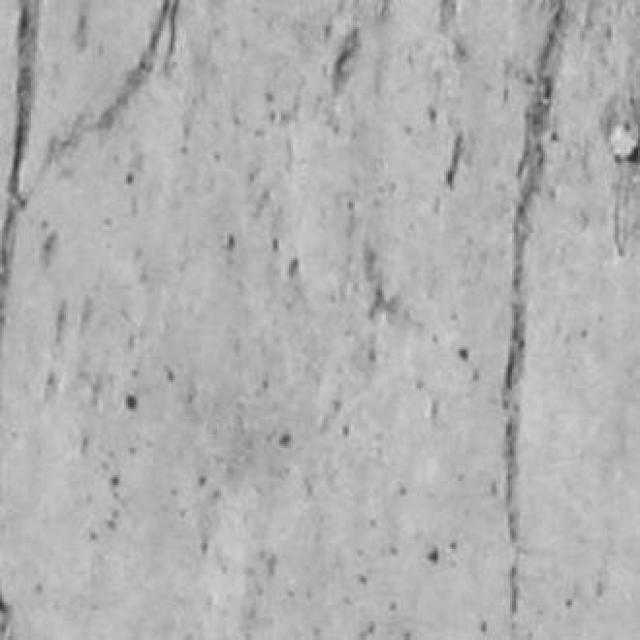crack: (503, 0, 568, 638), (41, 0, 180, 174), (0, 0, 40, 349), (332, 28, 360, 95), (163, 0, 180, 71), (447, 132, 463, 190), (0, 594, 13, 639), (441, 0, 457, 31)
